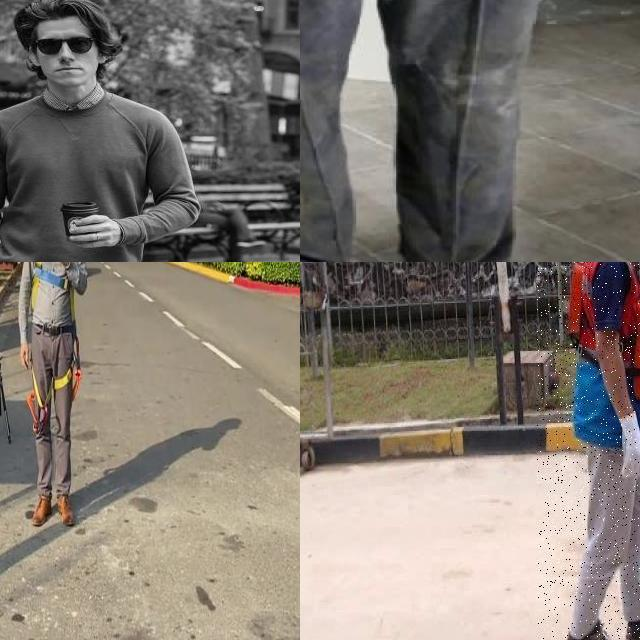Harness: (26, 365, 82, 436), (32, 262, 74, 318)
No_Ear-Protection: (19, 41, 44, 67), (100, 44, 115, 70)
boots: (561, 619, 635, 640)
face_nomask: (43, 51, 96, 80)
hand_noglove: (68, 211, 140, 257)
person: (0, 0, 202, 262), (537, 262, 640, 640)
vest: (571, 262, 640, 447)
